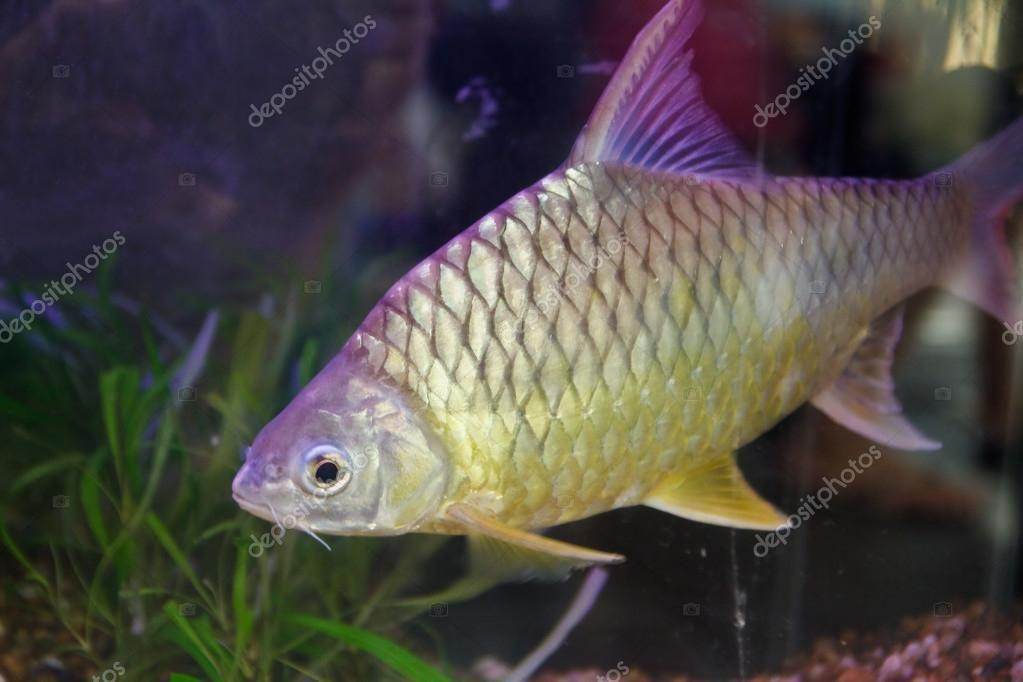Silver Barb: (234, 3, 1023, 568)
